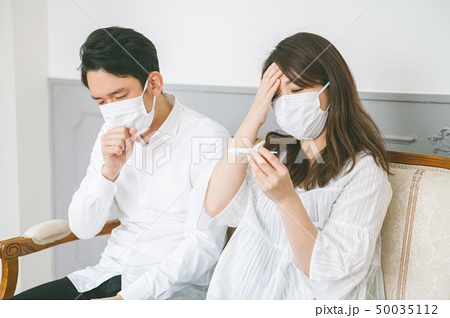mask: (271, 92, 327, 136), (97, 94, 157, 134)
